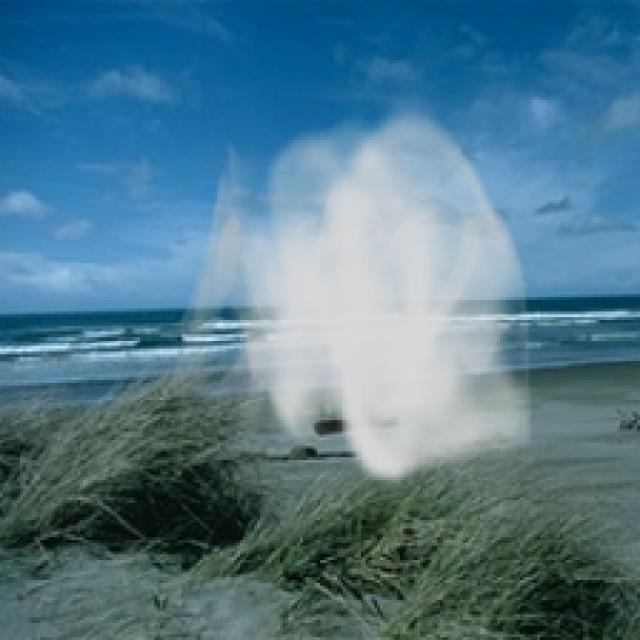smoke: (168, 97, 543, 486)
